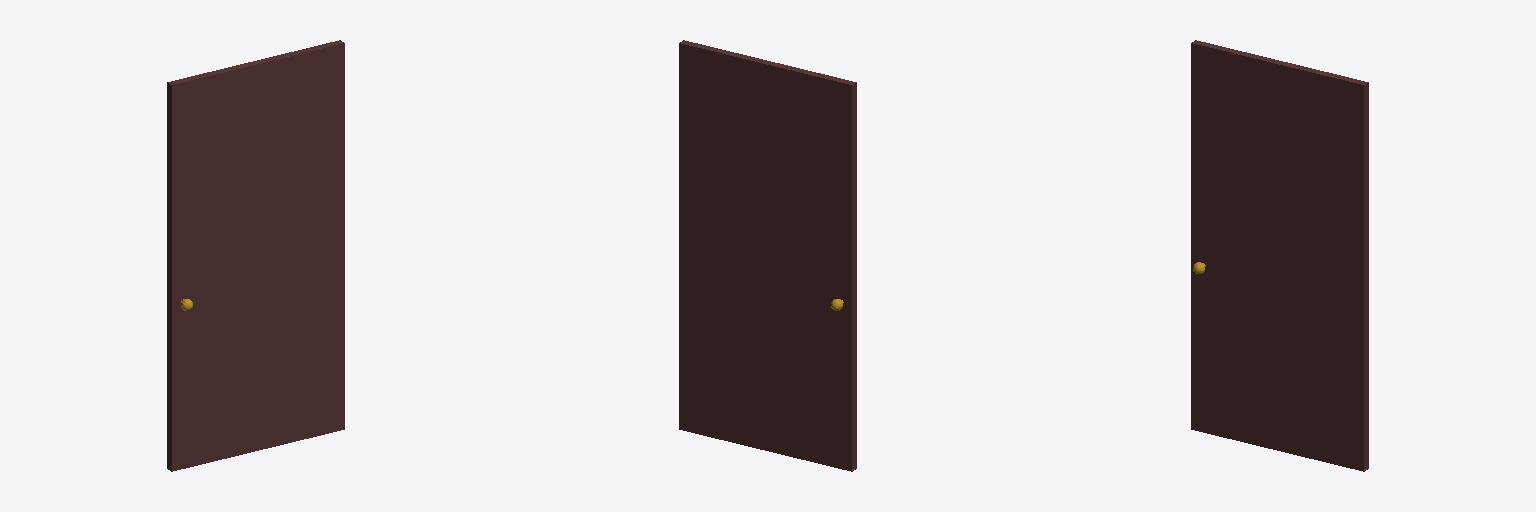
Rendered from door1.obj.
3 renders of one model, left to right at view 1: azimuth 30°, elevation 25°; view 2: azimuth 150°, elevation 25°; view 3: azimuth 330°, elevation 25°, orthographic.
Parts seen in each view (by area): view 1: door1; view 2: door1; view 3: door1.
Boxes of the visible parts, x1,y1,x2,y2 form: door1: [167, 40, 344, 471]; door1: [679, 40, 856, 471]; door1: [1191, 40, 1368, 471].
Bounding box in the file's own units: 1.11 × 2.37 × 0.2004.